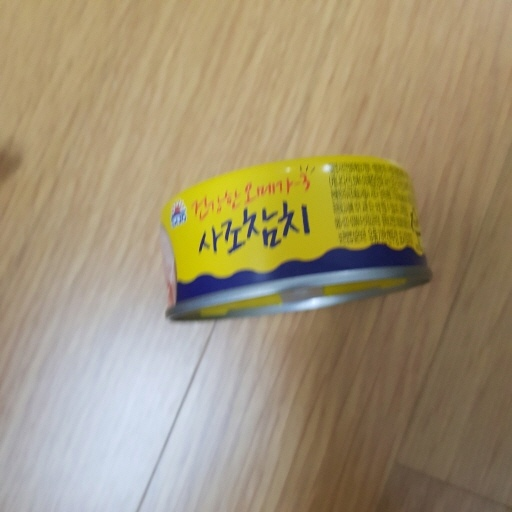Metal_1: (160, 145, 432, 326)
